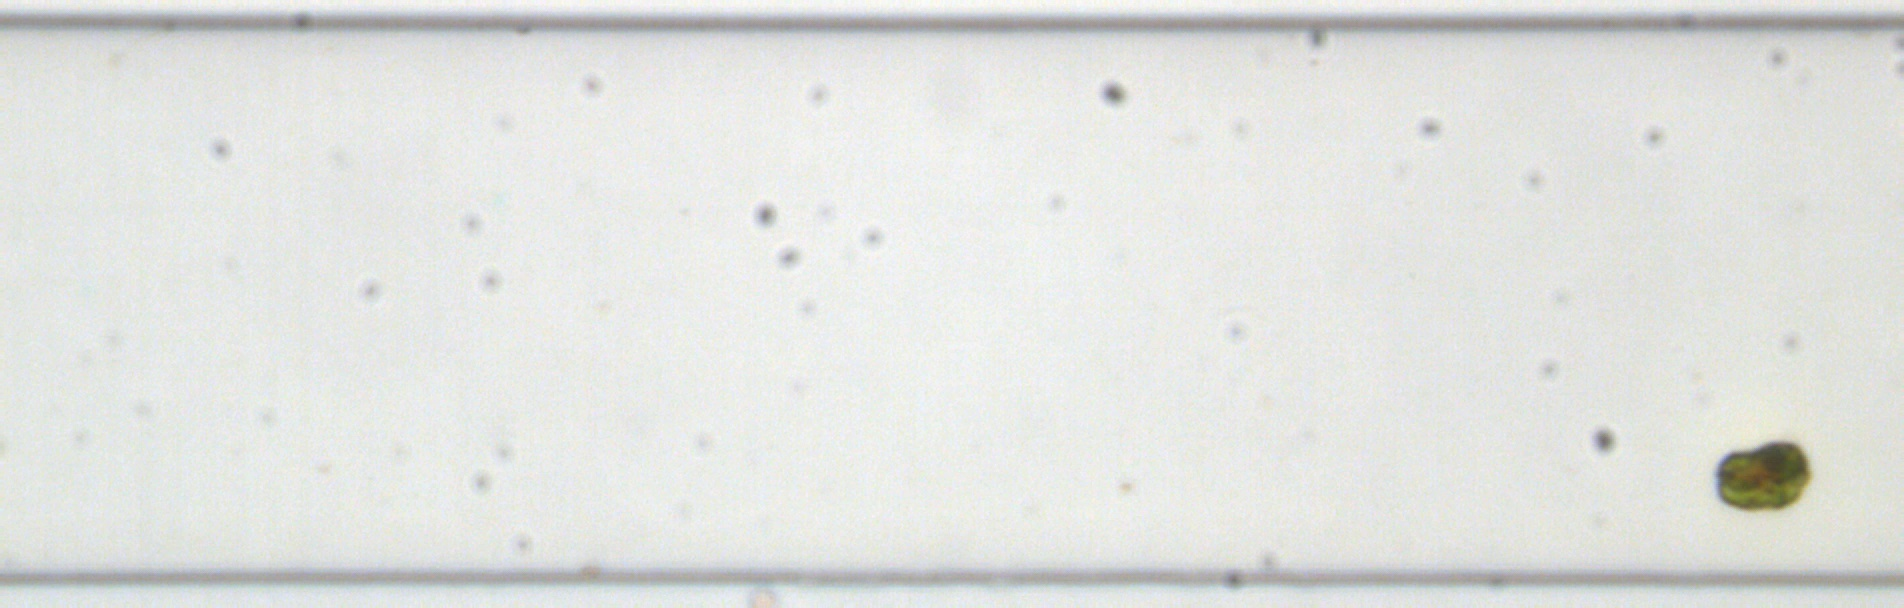Haematococcus: (1711, 433, 1810, 516)
